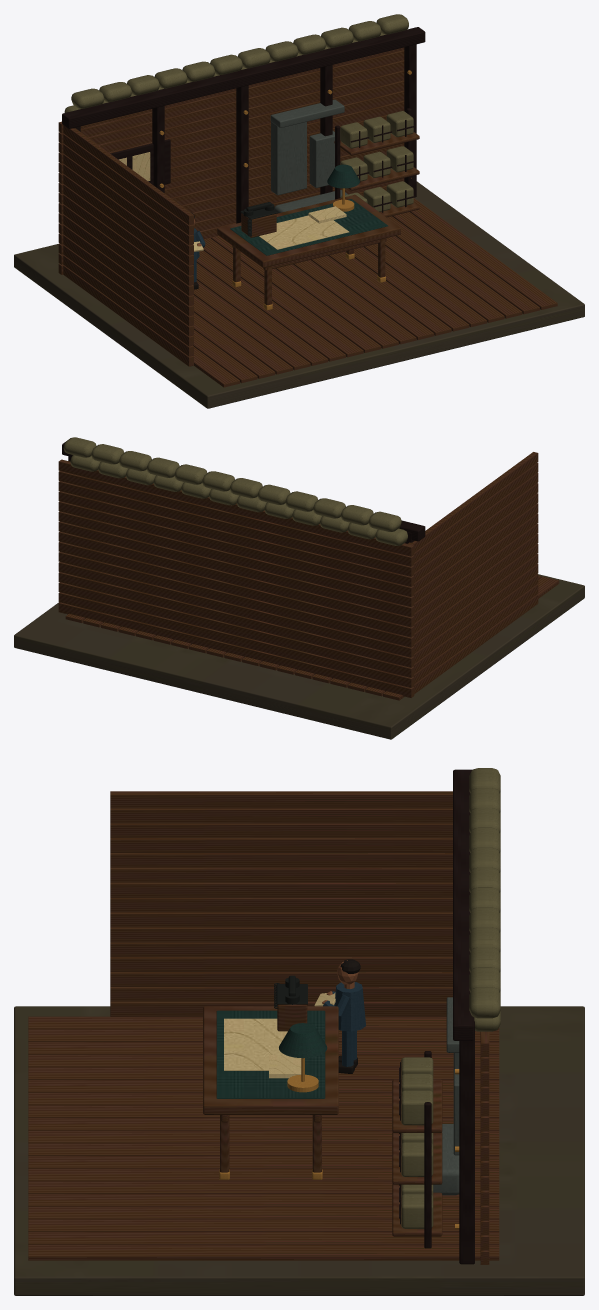
Rendered from room.glb.
The picture shows the model from 3 angles, top to bottom: view 1: azimuth 30°, elevation 25°; view 2: azimuth 150°, elevation 25°; view 3: azimuth 270°, elevation 25°; orthographic projection. The views are drawn at different scales.
Parts seen in each view (by area): view 1: Duckboard, Earth foundation, Shelter upright, Sandbag parapet, Distant ruined masonry, Leather writing insert, Blank contour study, Brass leg shoe, Telephone top; view 2: Duckboard, Earth foundation, Sandbag parapet, Shelter upright; view 3: Duckboard, Earth foundation, Sandbag parapet, Shelter upright, Leather writing insert, Blank contour study, Distant ruined masonry, Figure trouser, Telephone top, Brass leg shoe.
Boxes of the visible parts, x1=… form: Duckboard: x1=58, y1=47, x2=557, y2=387; Earth foundation: x1=14, y1=181, x2=584, y2=408; Shelter upright: x1=62, y1=27, x2=425, y2=223; Sandbag parapet: x1=64, y1=14, x2=413, y2=211; Distant ruined masonry: x1=270, y1=99, x2=347, y2=213; Leather writing insert: x1=230, y1=164, x2=387, y2=255; Blank contour study: x1=259, y1=206, x2=349, y2=249; Brass leg shoe: x1=159, y1=70, x2=411, y2=310; Telephone top: x1=240, y1=202, x2=277, y2=236; Duckboard: x1=58, y1=452, x2=559, y2=700; Earth foundation: x1=14, y1=574, x2=584, y2=739; Sandbag parapet: x1=63, y1=437, x2=407, y2=545; Shelter upright: x1=62, y1=442, x2=425, y2=543; Duckboard: x1=28, y1=791, x2=499, y2=1264; Earth foundation: x1=14, y1=1006, x2=584, y2=1295; Sandbag parapet: x1=401, y1=768, x2=500, y2=1228; Shelter upright: x1=399, y1=769, x2=474, y2=1264; Leather writing insert: x1=216, y1=1010, x2=327, y2=1098; Blank contour study: x1=224, y1=1018, x2=301, y2=1078; Distant ruined masonry: x1=433, y1=997, x2=459, y2=1195; Figure trouser: x1=323, y1=982, x2=365, y2=1066; Telephone top: x1=274, y1=975, x2=307, y2=1008; Brass leg shoe: x1=219, y1=1058, x2=459, y2=1229.
Bounding box in the file's own units: 9 × 4.33 × 8.
Materials: 12 (12 with a texture image).
